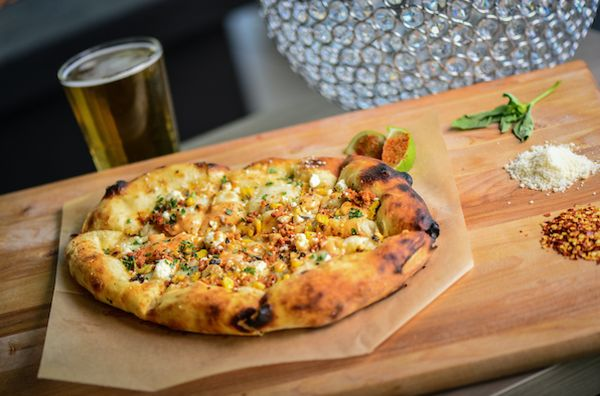pizza: (56, 35, 181, 173)
